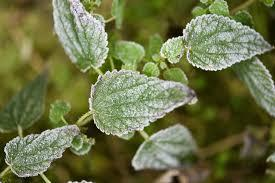powdery_mildew: (13, 5, 268, 168)
